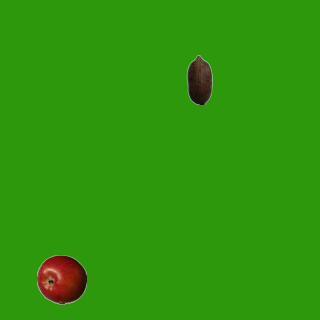Apple Braeburn: (36, 254, 86, 304)
Nut Pecan: (174, 54, 224, 104)
